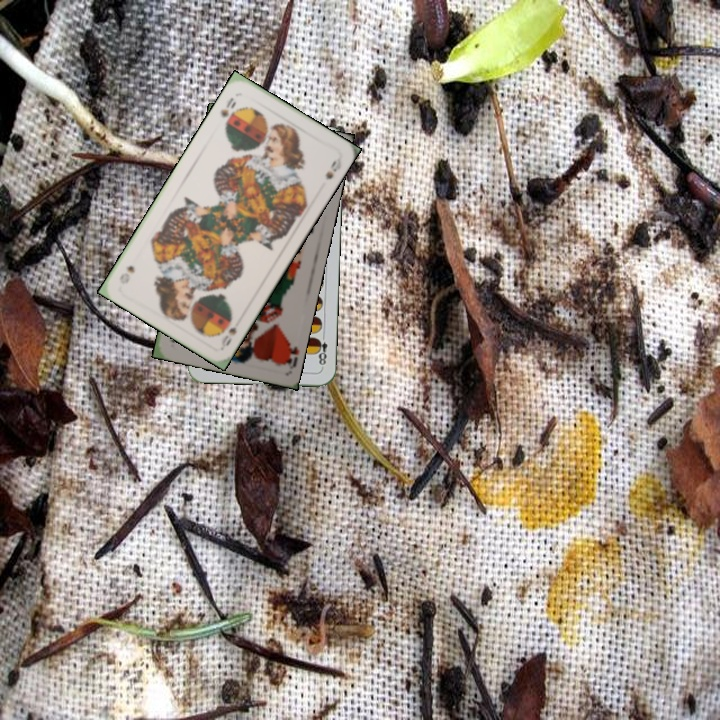E8: (312, 330, 330, 370)
HO: (278, 336, 301, 371)
SO: (216, 93, 239, 128), (217, 323, 239, 351)
